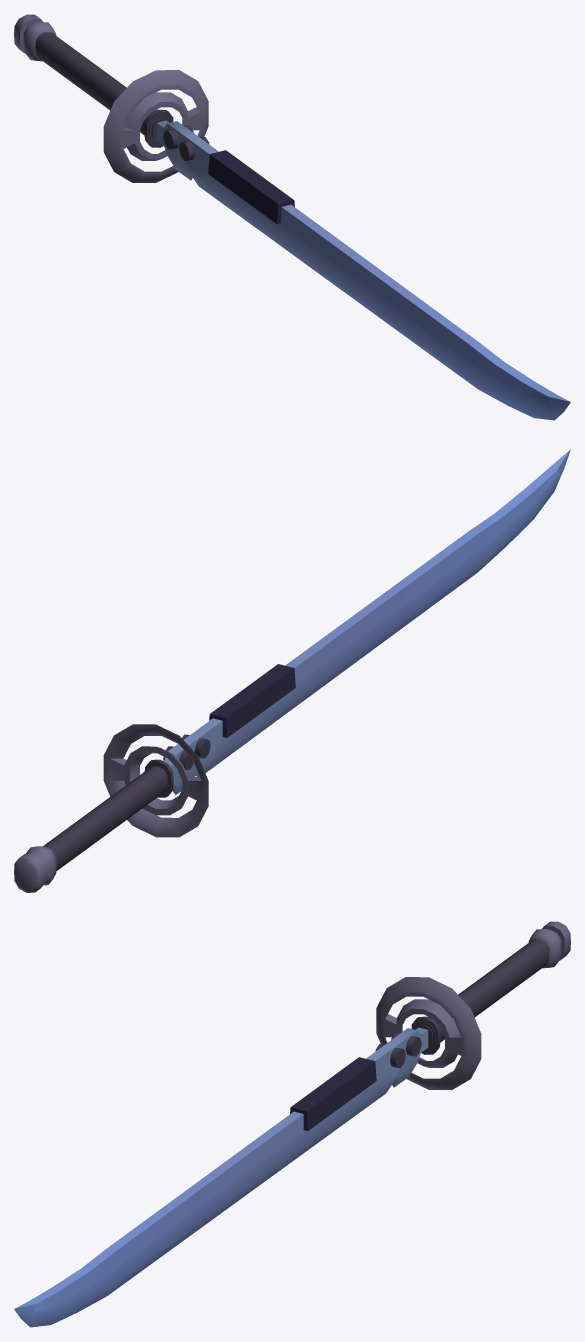
File: mdlMercSword.fbx
3 views of the same model, one above another, from view 1: azimuth 30°, elevation 25°; view 2: azimuth 150°, elevation 25°; view 3: azimuth 330°, elevation 25° (orthographic).
Visible parts, largest first — view 1: mdlMercSword; view 2: mdlMercSword; view 3: mdlMercSword.
Part boxes in pixels (left/top/right/bottom): mdlMercSword: left=14, top=14, right=570, bottom=420; mdlMercSword: left=14, top=449, right=570, bottom=892; mdlMercSword: left=14, top=921, right=570, bottom=1327.
Bounding box in the file's own units: 19.74 × 20.24 × 178.
